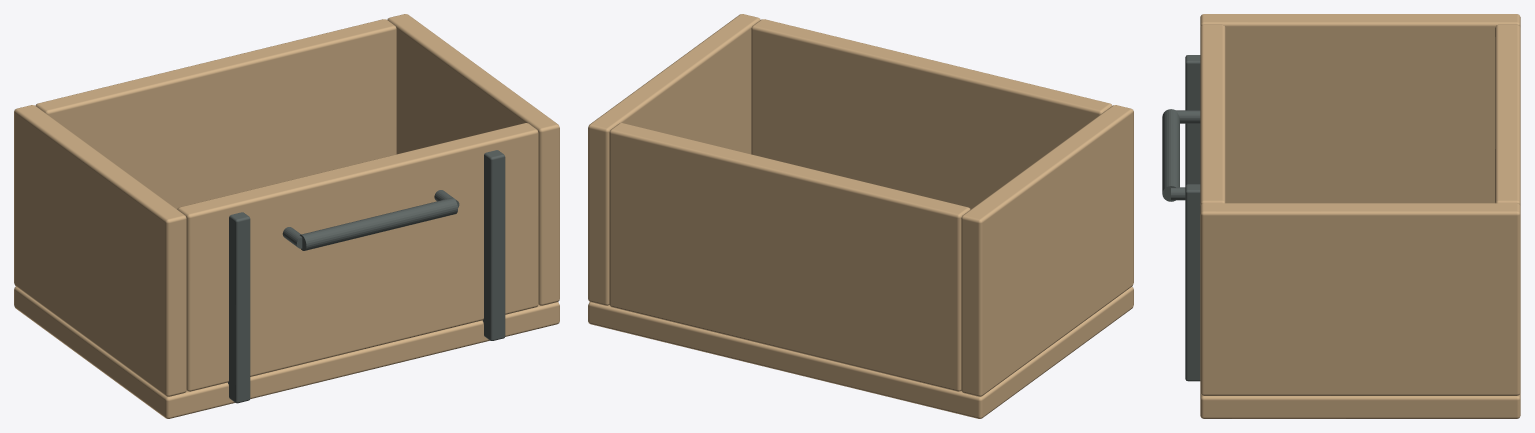
The model's file is public-library-and-reading-garden-public-library-and-r-90c73a50__30939.glb.
3 renders of one model, left to right at view 1: azimuth 30°, elevation 25°; view 2: azimuth 150°, elevation 25°; view 3: azimuth 270°, elevation 25°, orthographic. The views are drawn at different scales.
Parts seen in each view (by area): view 1: public-library-and-reading-garden-book-transport-crate; view 2: public-library-and-reading-garden-book-transport-crate; view 3: public-library-and-reading-garden-book-transport-crate.
Boxes of the visible parts, bbox=[...] form: public-library-and-reading-garden-book-transport-crate: bbox=[14, 14, 559, 418]; public-library-and-reading-garden-book-transport-crate: bbox=[588, 14, 1133, 418]; public-library-and-reading-garden-book-transport-crate: bbox=[1162, 14, 1520, 418].
Size of the model in its own units: 0.65 by 0.315 by 0.492.
